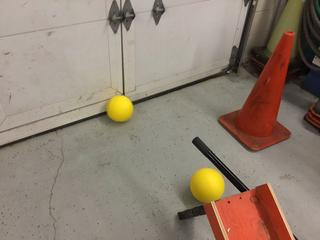power_cell: (187, 164, 227, 204), (105, 94, 136, 126)
